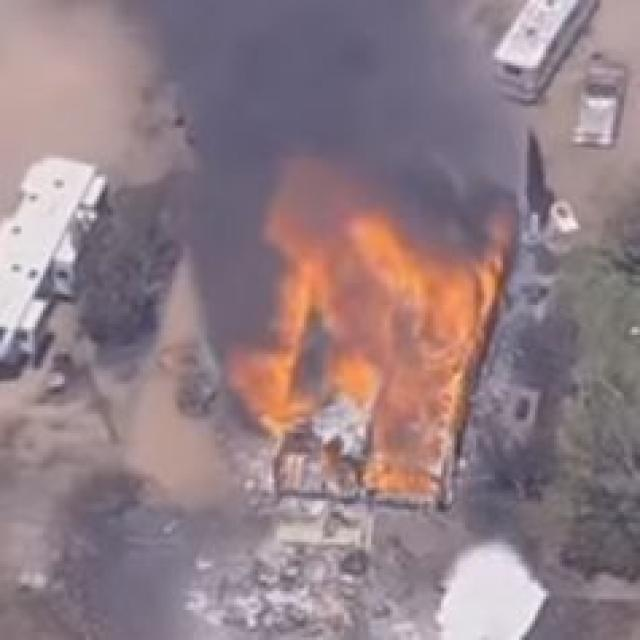Fire: (236, 158, 574, 468)
Smoke: (0, 0, 551, 412)
